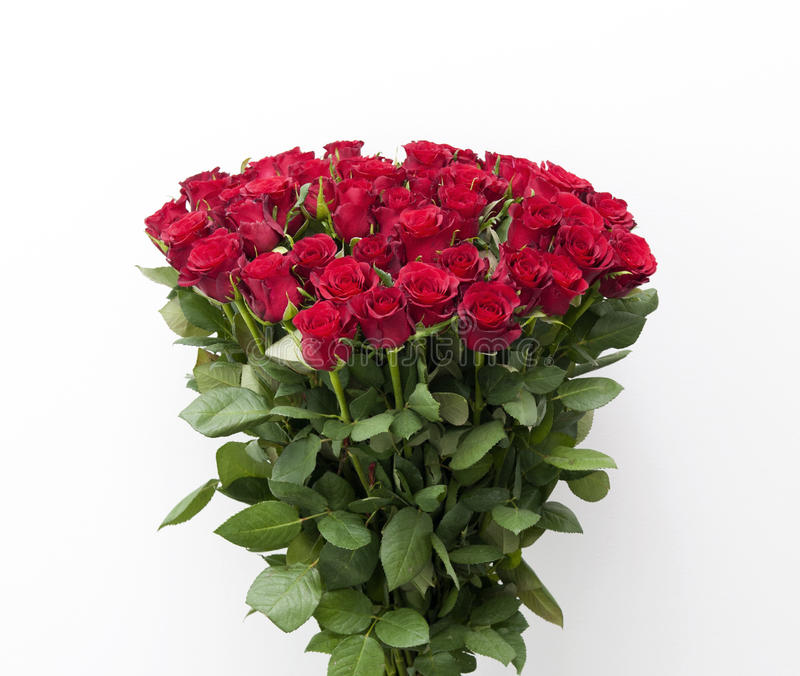RedRose: (356, 287, 427, 355), (593, 225, 657, 299), (455, 279, 513, 350), (238, 254, 300, 320), (294, 306, 357, 370), (196, 225, 247, 304), (317, 256, 381, 311), (393, 257, 449, 318), (530, 258, 584, 321), (321, 182, 380, 237), (508, 192, 556, 254), (390, 206, 449, 255), (437, 187, 491, 240), (496, 243, 547, 299), (227, 201, 280, 253), (290, 153, 331, 216), (492, 146, 550, 190), (245, 171, 293, 221), (559, 223, 605, 275), (440, 134, 483, 187), (160, 211, 208, 258), (435, 242, 490, 282), (547, 183, 593, 230), (586, 188, 638, 229), (399, 139, 447, 180), (344, 156, 403, 189), (346, 230, 395, 267), (294, 231, 334, 274), (321, 135, 361, 177), (211, 173, 251, 215), (142, 201, 186, 238), (179, 171, 223, 206), (400, 166, 446, 199), (252, 148, 305, 176), (544, 158, 593, 183), (382, 189, 419, 218)
